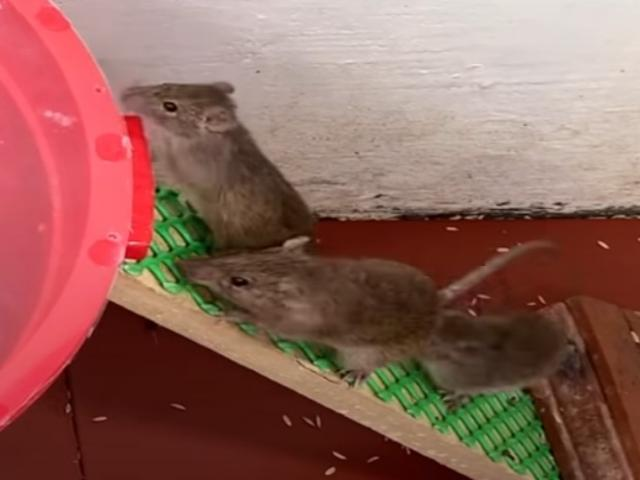Tikus: (170, 237, 555, 381), (122, 80, 310, 246), (416, 304, 579, 398)
